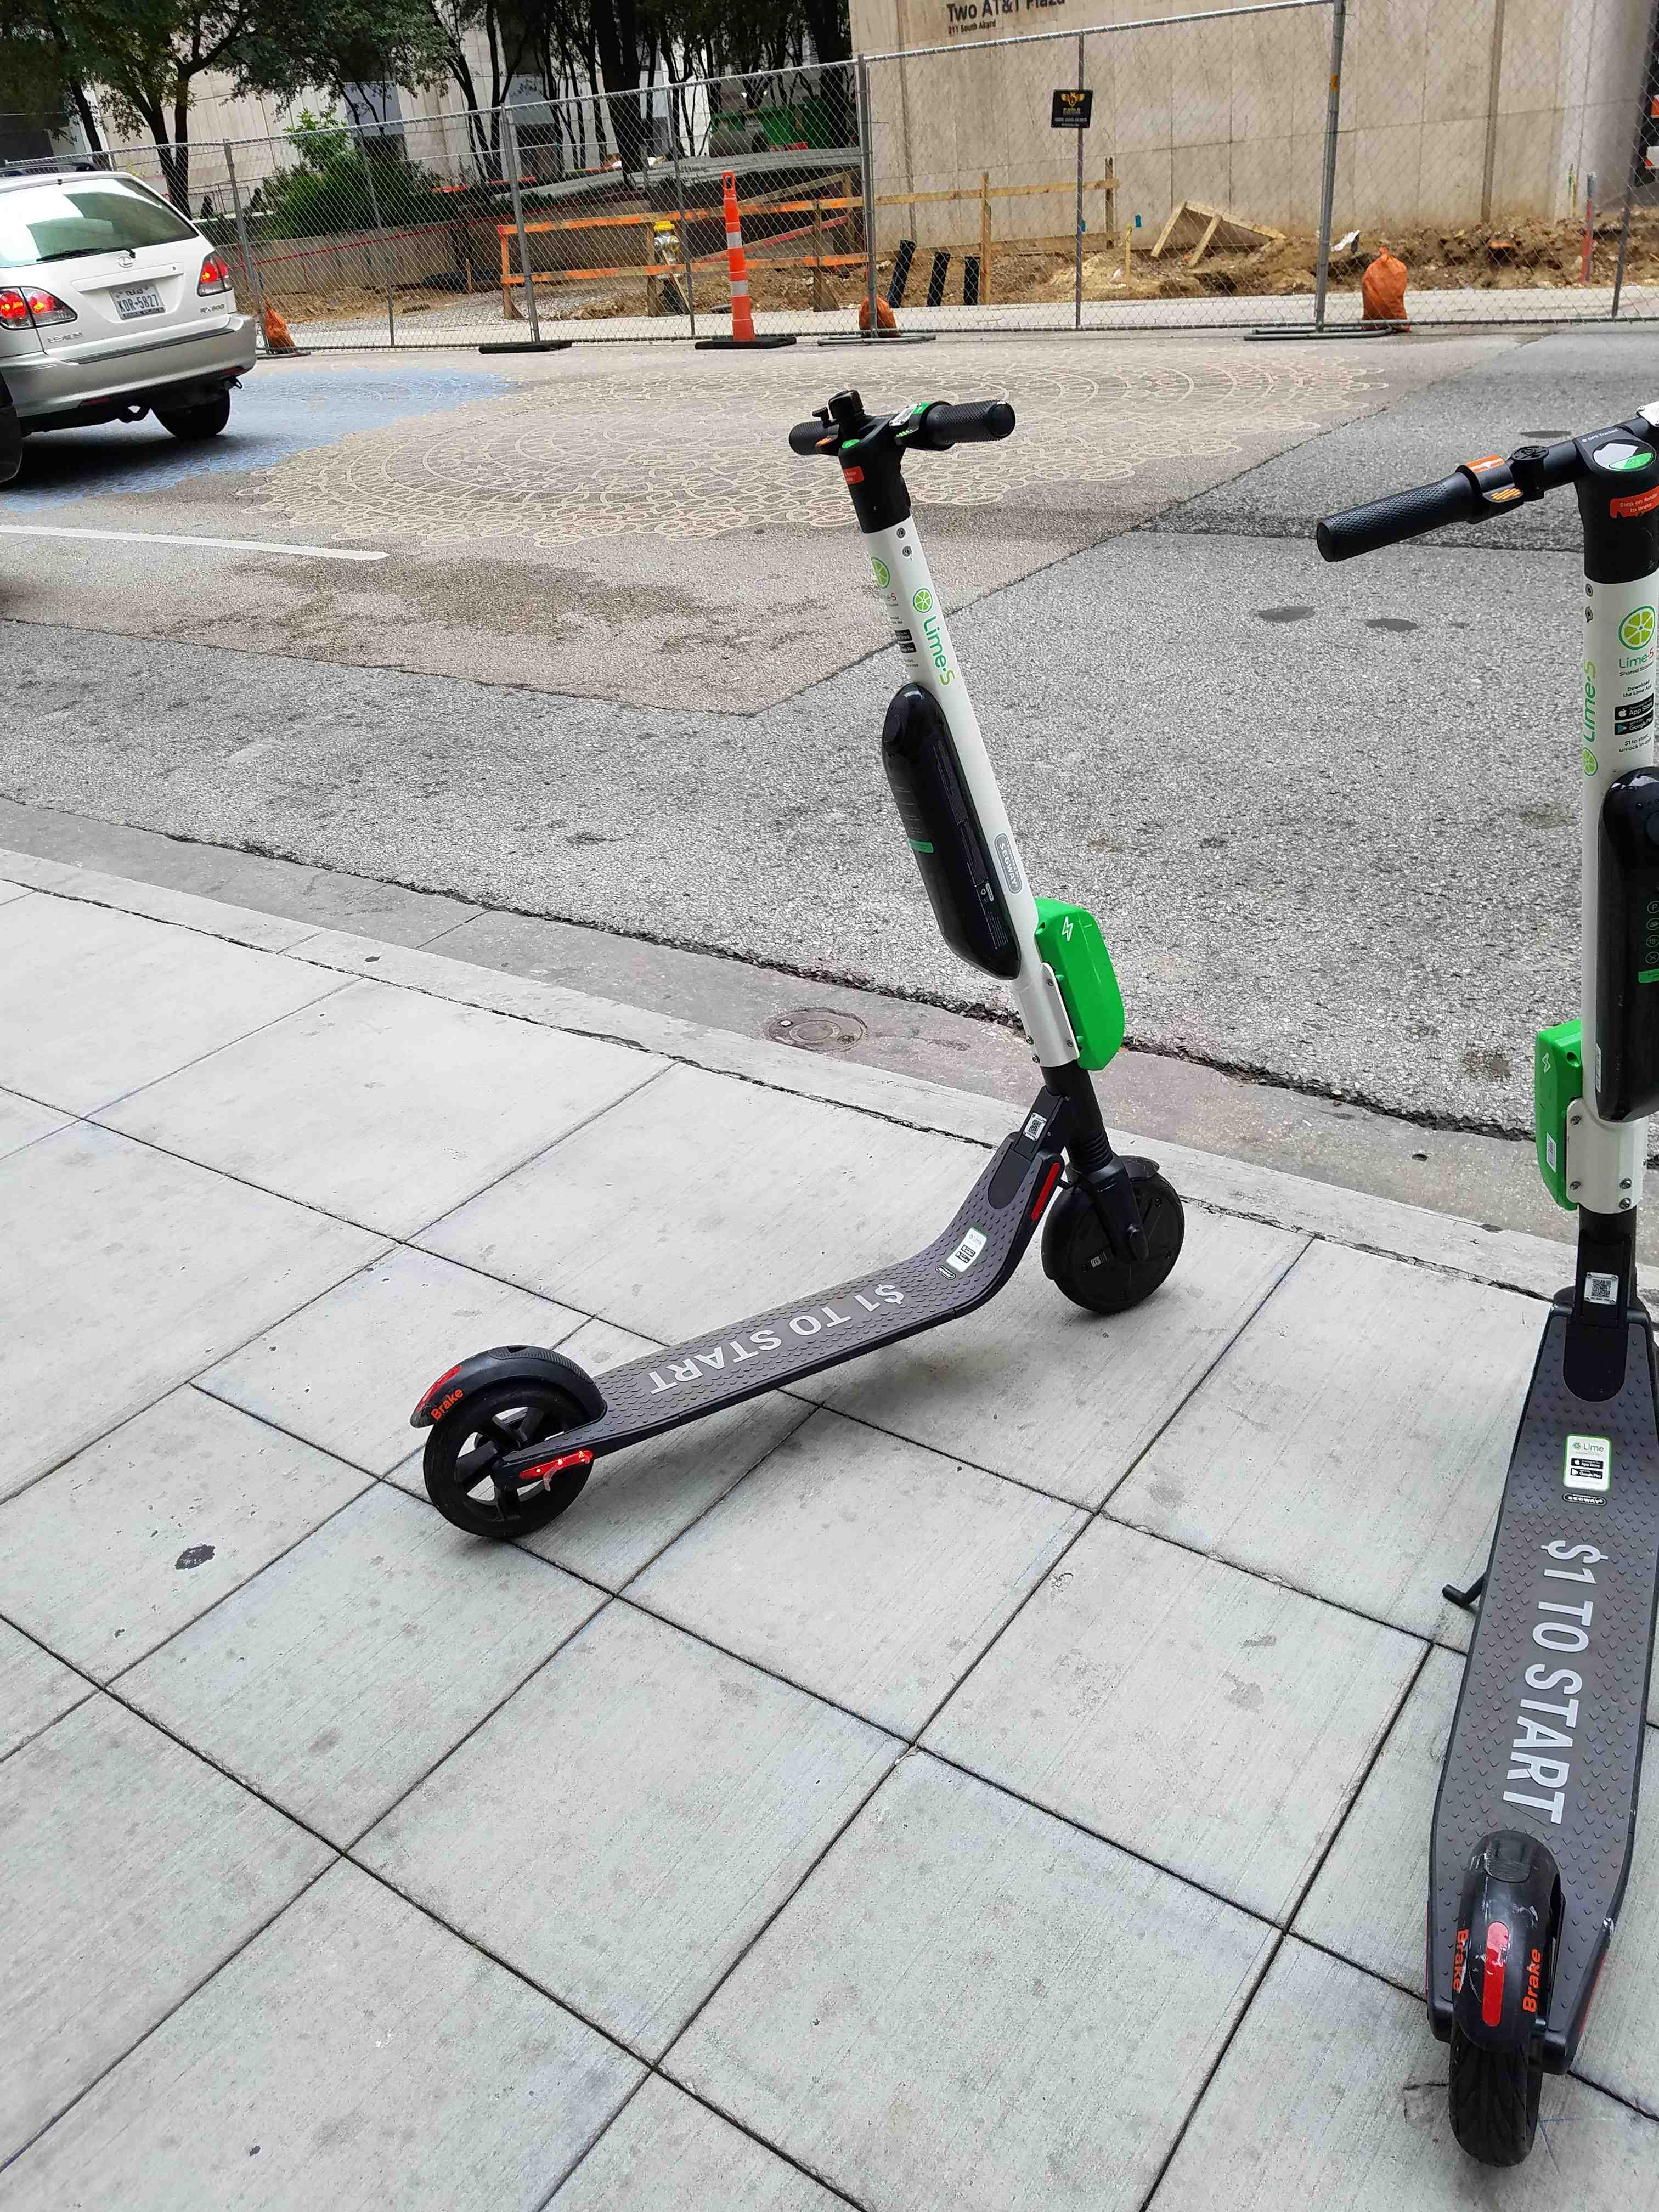scooter: (404, 347, 1220, 1507)
